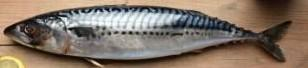fish: (4, 5, 290, 66)
